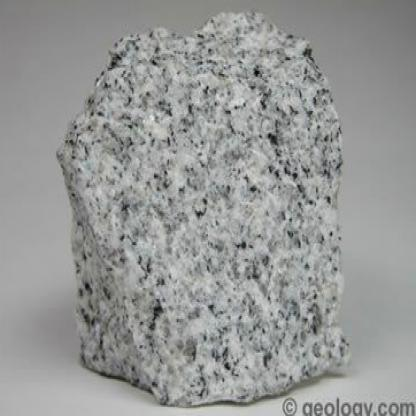Igneous_Granite: (46, 0, 359, 405)
